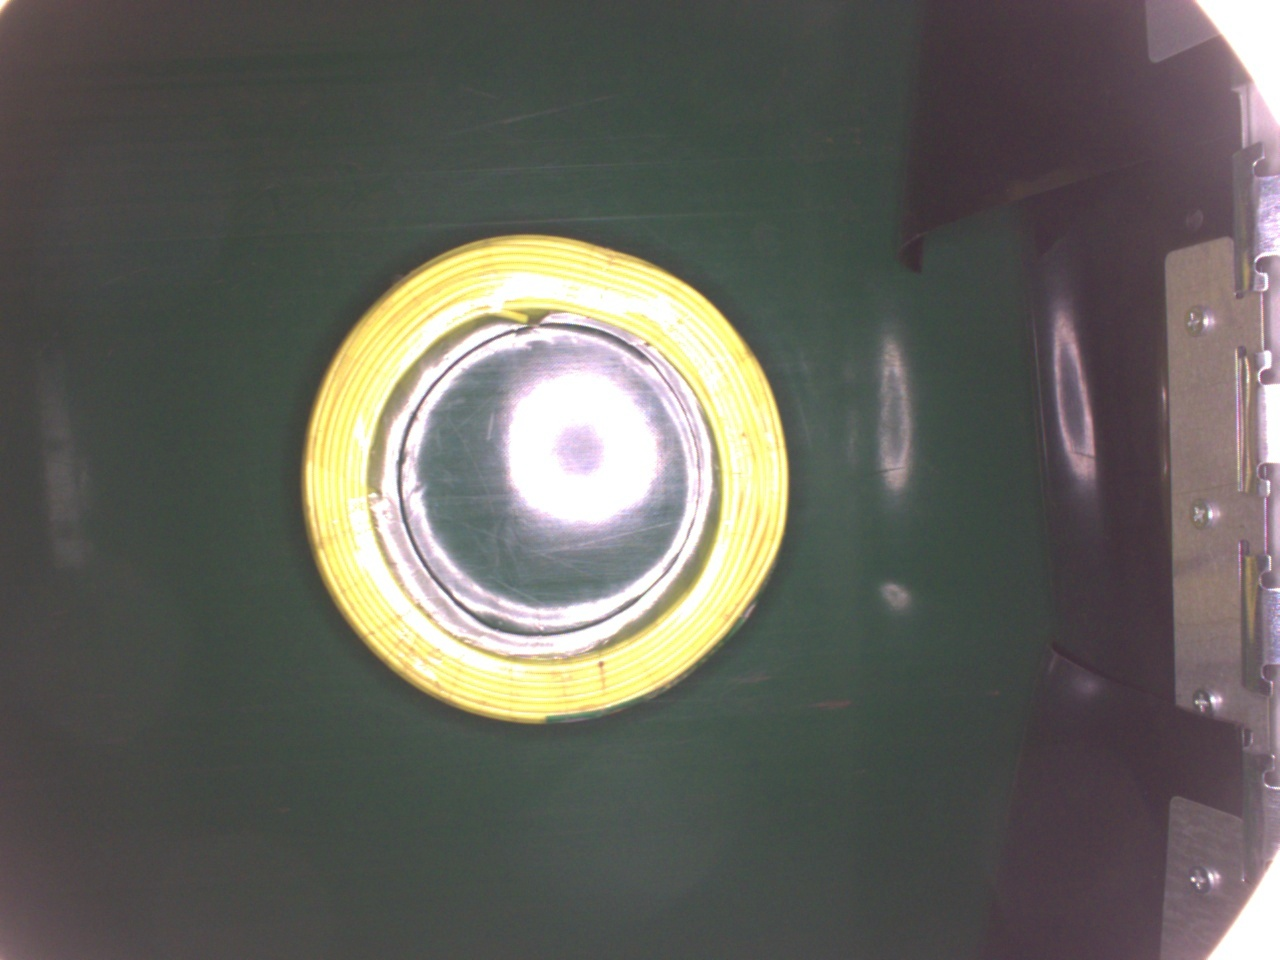yellow: (299, 232, 789, 725)
